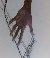hand: (6, 3, 36, 46)
